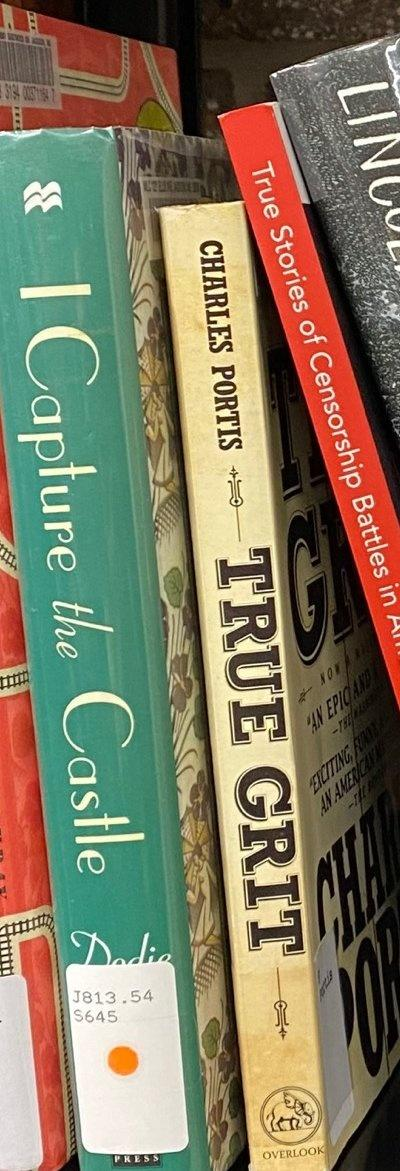call_number: (66, 961, 189, 1150)
